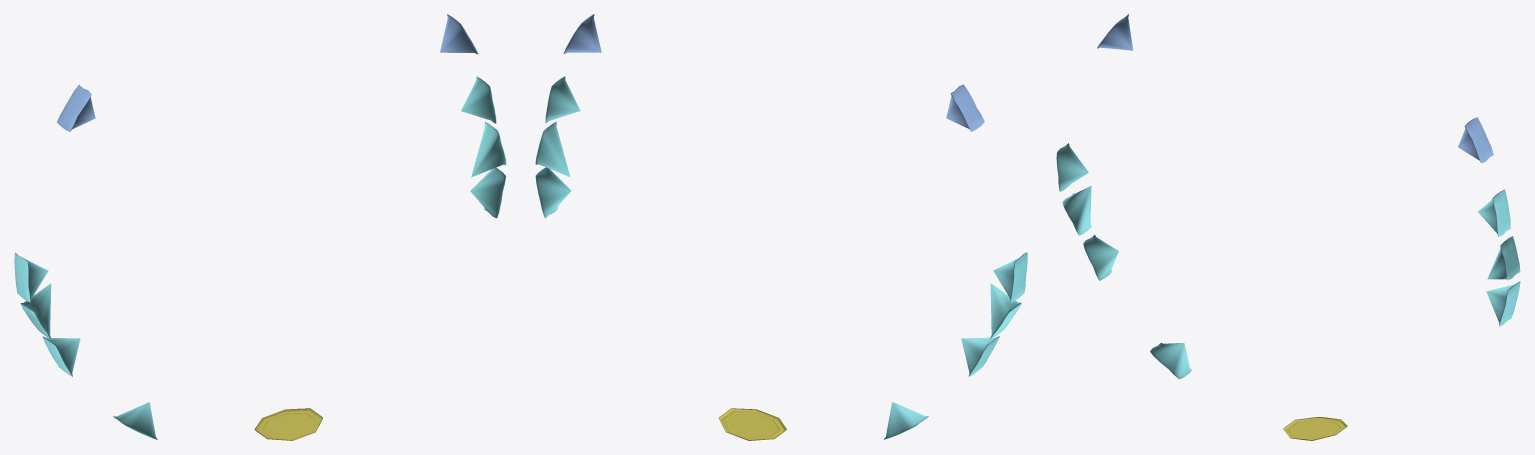
Rendered from WaterLevelPlatforms.fbx.
The picture shows the model from 3 angles, left to right: view 1: azimuth 30°, elevation 25°; view 2: azimuth 150°, elevation 25°; view 3: azimuth 330°, elevation 25°; orthographic projection. The views are drawn at different scales.
Parts seen in each view (by area): view 1: Platform_End, Platforms_Ice_Static.012, Platform_Ice_Moving_A, Platforms_Ice_Static.013, Platforms_Ice_Static.006, Platforms_Ice_Static.005, Platforms_Ice_Static.011, Platforms_Ice_Static.004, Platform_Ice_Moving_C, Platforms_Ice_Static.003; view 2: Platform_End, Platforms_Ice_Static.012, Platform_Ice_Moving_A, Platforms_Ice_Static.013, Platforms_Ice_Static.006, Platforms_Ice_Static.005, Platforms_Ice_Static.011, Platforms_Ice_Static.004, Platform_Ice_Moving_C, Platforms_Ice_Static.003; view 3: Platform_End, Platform_Ice_Moving_C, Platforms_Ice_Static.003, Platforms_Ice_Static.005, Platforms_Ice_Static.004, Platforms_Ice_Static.006, Platforms_Ice_Static.012, Platforms_Ice_Static.011, Platforms_Ice_Static.013, Platform_Ice_Moving_A.
Boxes of the visible parts, left/top/right/bottom form: Platform_End: left=254, top=408, right=322, bottom=440; Platforms_Ice_Static.012: left=471, top=122, right=506, bottom=177; Platform_Ice_Moving_A: left=57, top=85, right=95, bottom=131; Platforms_Ice_Static.013: left=470, top=167, right=506, bottom=218; Platforms_Ice_Static.006: left=14, top=252, right=48, bottom=302; Platforms_Ice_Static.005: left=20, top=283, right=51, bottom=339; Platforms_Ice_Static.011: left=461, top=76, right=496, bottom=123; Platforms_Ice_Static.004: left=42, top=336, right=80, bottom=376; Platform_Ice_Moving_C: left=440, top=14, right=478, bottom=54; Platforms_Ice_Static.003: left=113, top=402, right=157, bottom=439; Platform_End: left=718, top=408, right=786, bottom=440; Platforms_Ice_Static.012: left=535, top=122, right=570, bottom=176; Platform_Ice_Moving_A: left=946, top=84, right=984, bottom=131; Platforms_Ice_Static.013: left=535, top=167, right=571, bottom=218; Platforms_Ice_Static.006: left=993, top=252, right=1027, bottom=302; Platforms_Ice_Static.005: left=990, top=283, right=1021, bottom=339; Platforms_Ice_Static.011: left=545, top=76, right=580, bottom=122; Platforms_Ice_Static.004: left=961, top=336, right=999, bottom=376; Platform_Ice_Moving_C: left=563, top=14, right=601, bottom=53; Platforms_Ice_Static.003: left=884, top=402, right=928, bottom=439; Platform_End: left=1283, top=417, right=1347, bottom=440; Platform_Ice_Moving_C: left=1458, top=117, right=1493, bottom=163; Platforms_Ice_Static.003: left=1150, top=342, right=1191, bottom=379; Platforms_Ice_Static.005: left=1062, top=185, right=1091, bottom=235; Platforms_Ice_Static.004: left=1083, top=234, right=1118, bottom=280; Platforms_Ice_Static.006: left=1056, top=143, right=1088, bottom=191; Platforms_Ice_Static.012: left=1487, top=236, right=1520, bottom=280; Platforms_Ice_Static.011: left=1478, top=189, right=1510, bottom=236; Platforms_Ice_Static.013: left=1486, top=281, right=1520, bottom=326; Platform_Ice_Moving_A: left=1097, top=14, right=1133, bottom=50.
Bounding box in the file's own units: 980 × 761 × 107.
